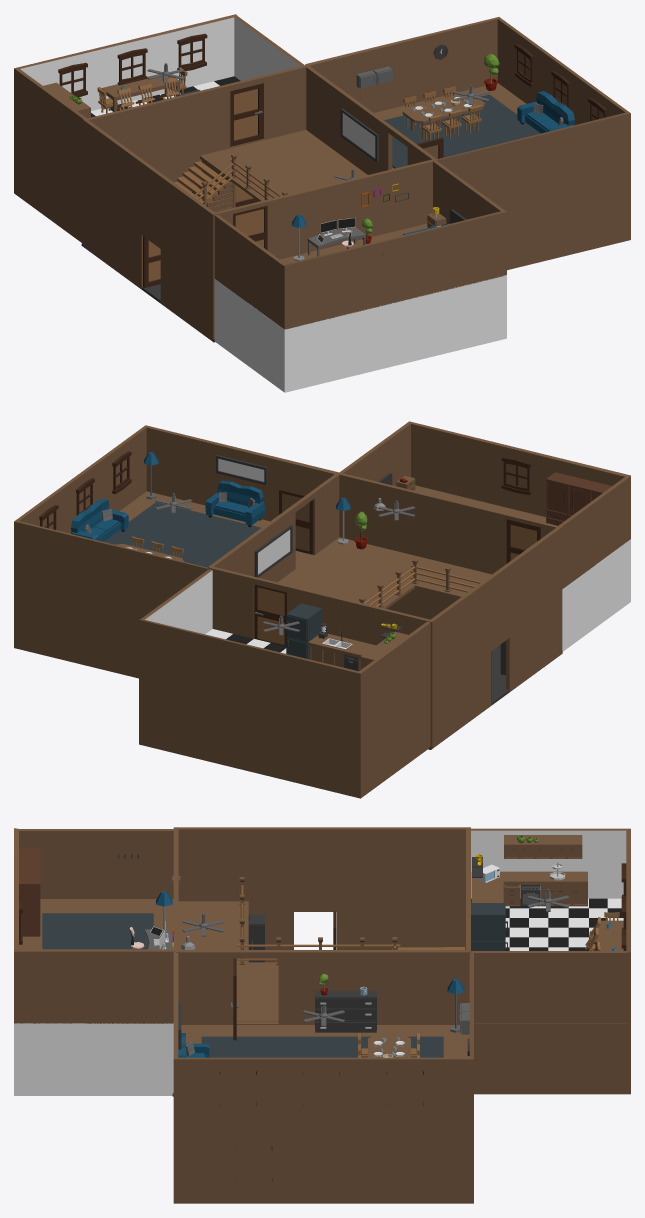
Rendered from Level_03.fbx.
3 views of the same model, one above another, from view 1: azimuth 30°, elevation 25°; view 2: azimuth 150°, elevation 25°; view 3: azimuth 270°, elevation 25° (orthographic). The views are drawn at different scales.
Visible parts, largest first — view 1: yemek odası, oda, banyo, on_duvar, YatakOdasi, sag_duvar.001, sag_duvar, salon, Cube.044, sag_duvar.002, Mutfak, door_01.002 (+13 smaller); view 2: yemek odası, YatakOdasi, Mutfak, oda, on_duvar, sag_duvar, salon, Cube.044, sag_duvar.001, sag_duvar.002, banyo, giyinme_dolabi (+14 smaller); view 3: yemek odası, on_duvar, oda, YatakOdasi, salon, sag_duvar.002, banyo, Mutfak, Cube.044, tezgah, cekmeceler, giyinme_dolabi (+8 smaller).
Boxes of the visible parts, x1,y1,x2,y2 form: yemek odası: (305, 17, 630, 210); oda: (214, 160, 506, 329); banyo: (214, 275, 506, 392); on_duvar: (83, 119, 214, 340); YatakOdasi: (14, 14, 304, 181); sag_duvar.001: (83, 65, 308, 243); sag_duvar: (211, 159, 436, 339); salon: (505, 179, 630, 270); Cube.044: (200, 130, 367, 201); sag_duvar.002: (306, 65, 437, 174); Mutfak: (14, 131, 82, 242); door_01.002: (230, 83, 262, 146); yemek odası: (14, 425, 338, 618); YatakOdasi: (139, 569, 430, 736); Mutfak: (139, 682, 430, 798); oda: (340, 421, 630, 588); on_duvar: (430, 527, 561, 747); sag_duvar: (337, 472, 562, 653); salon: (14, 587, 139, 678); Cube.044: (278, 537, 491, 608); sag_duvar.001: (208, 567, 433, 748); sag_duvar.002: (208, 472, 339, 582); banyo: (562, 539, 630, 651); giyinme_dolabi: (546, 472, 611, 525); yemek odası: (173, 951, 473, 1135); on_duvar: (176, 827, 469, 962); oda: (14, 828, 173, 1023); YatakOdasi: (471, 828, 630, 1023); salon: (173, 1135, 473, 1203); sag_duvar.002: (175, 950, 469, 1024); banyo: (14, 1023, 173, 1095); Mutfak: (474, 1023, 630, 1094); Cube.044: (178, 901, 278, 1021); tezgah: (471, 871, 587, 906); cekmeceler: (315, 991, 376, 1032); giyinme_dolabi: (19, 847, 40, 936).
Size of the model in its own units: 10536 by 3123 by 11823.
3 materials, 2 textured.
